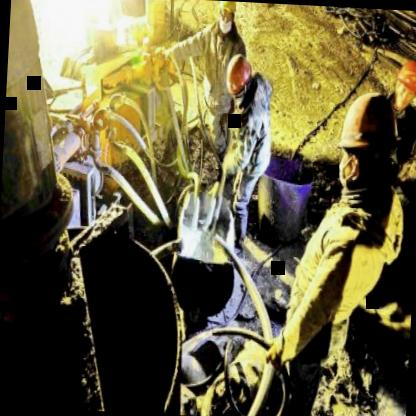helmet: (334, 89, 404, 196), (389, 56, 416, 111), (224, 56, 254, 100), (214, 0, 238, 36)
